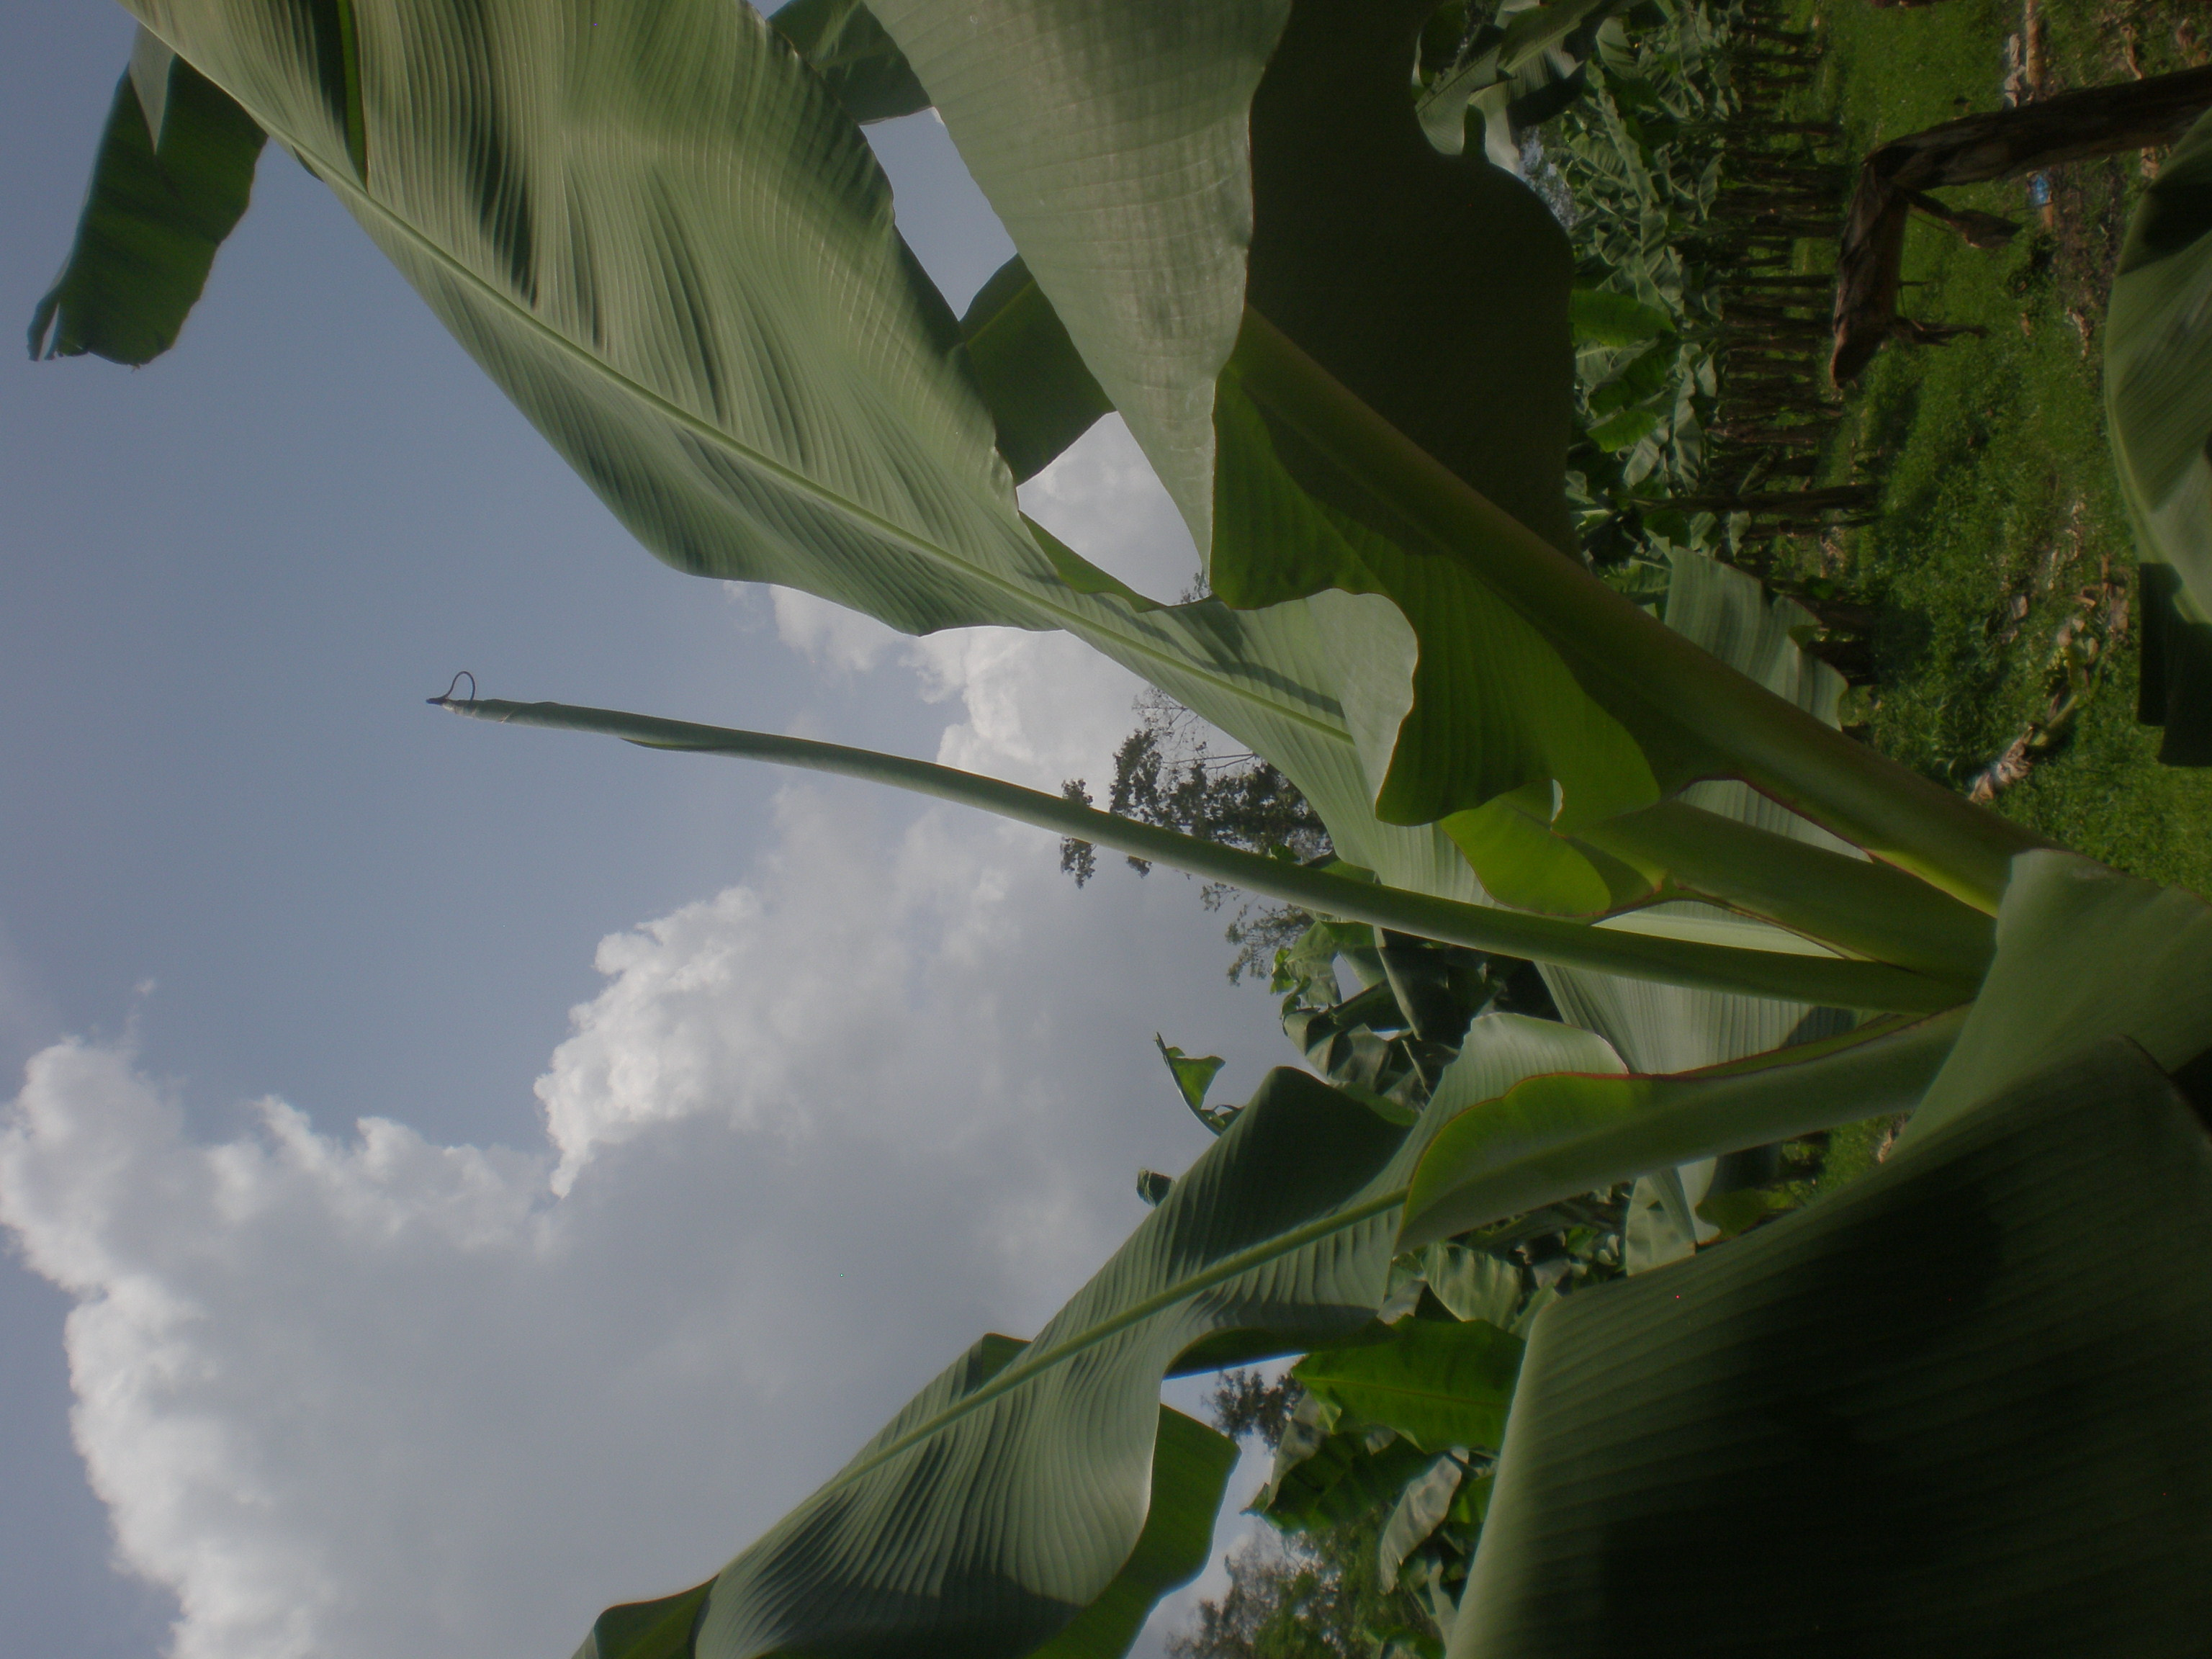candleleafs: (423, 673, 1851, 1009)
